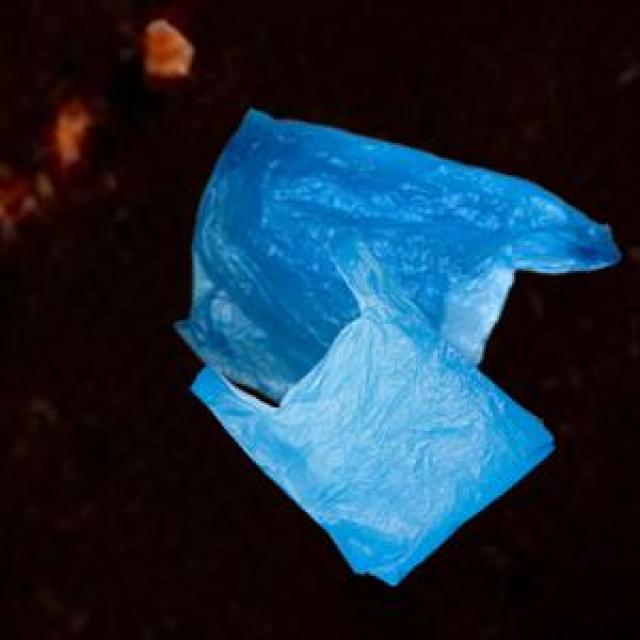plastic: (132, 77, 640, 608)
